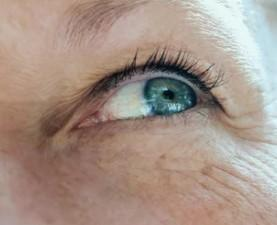eye: (144, 78, 197, 115)
